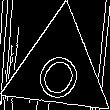O_NE: (29, 35, 89, 102)
